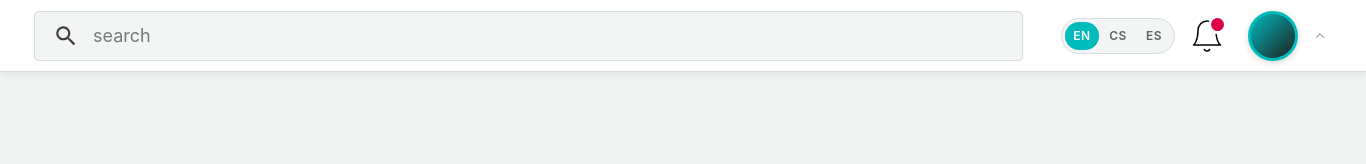
Test: TopBar notification center › opens and closes the panel with the bell
Expected: the element "Notifications" is not shown
Click the button named "Notifications" at (1207, 36), box x1=1189 y1=18 x2=1225 y2=54
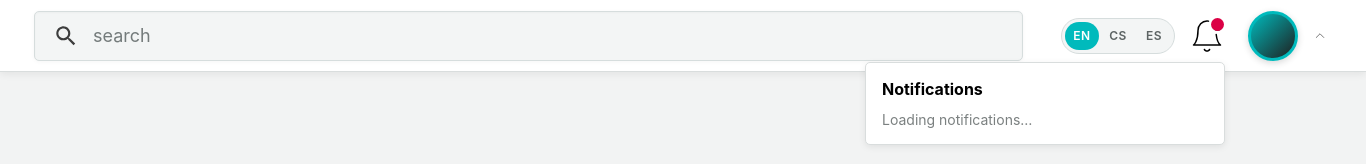
Result: the element "Notifications" is shown at x1=865 y1=62 x2=1225 y2=144
Click the button named "Notifications" at (1207, 36), box x1=1189 y1=18 x2=1225 y2=54
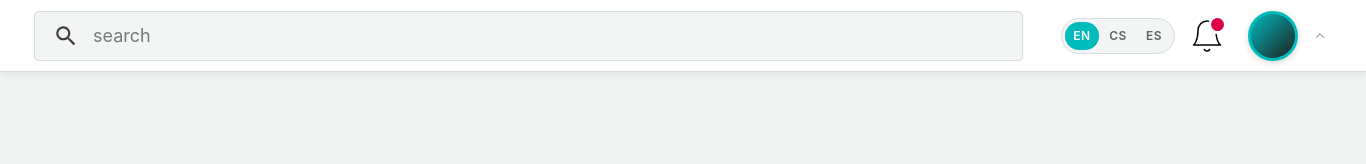
Result: the heading "Notifications" is gone
